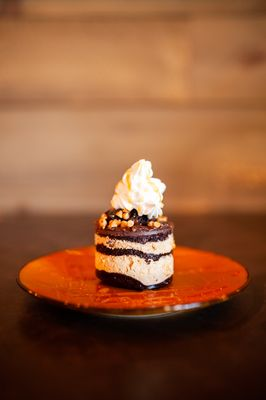curry: (2, 155, 266, 399)
sushi: (94, 158, 177, 290)
